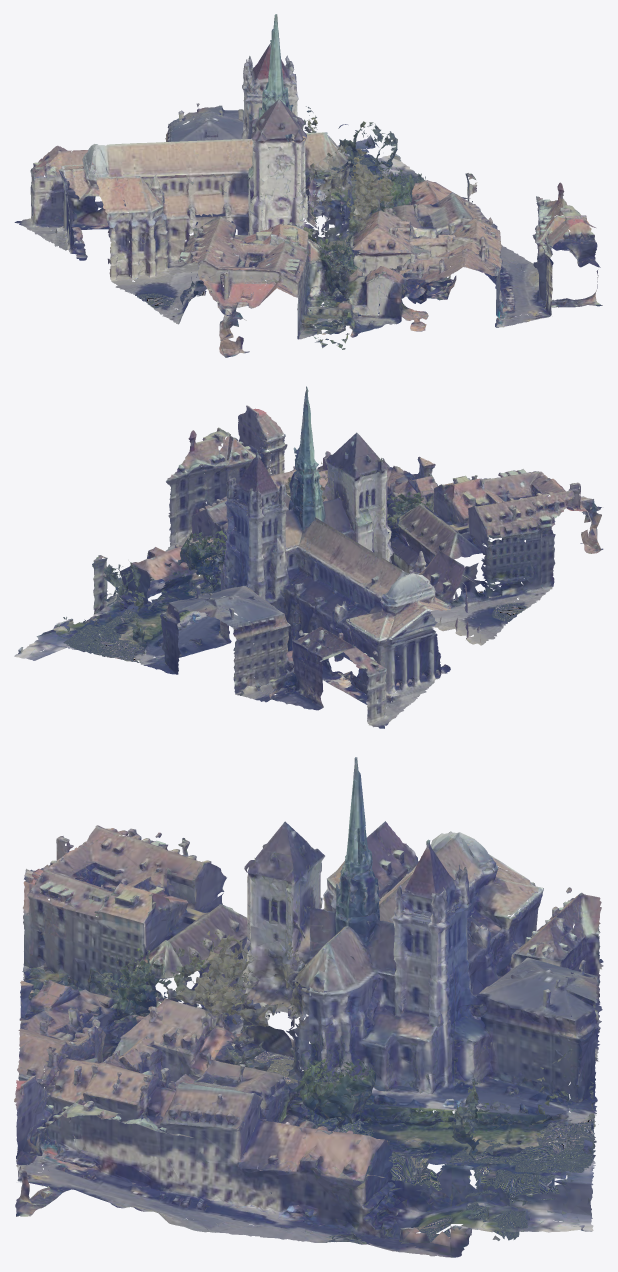
3 renders of one model, top to bottom at view 1: azimuth 30°, elevation 25°; view 2: azimuth 150°, elevation 25°; view 3: azimuth 270°, elevation 25°, orthographic. The views are drawn at different scales.
Bounding box in the file's own units: 112 × 77.74 × 113.
1 material, 1 textured.
